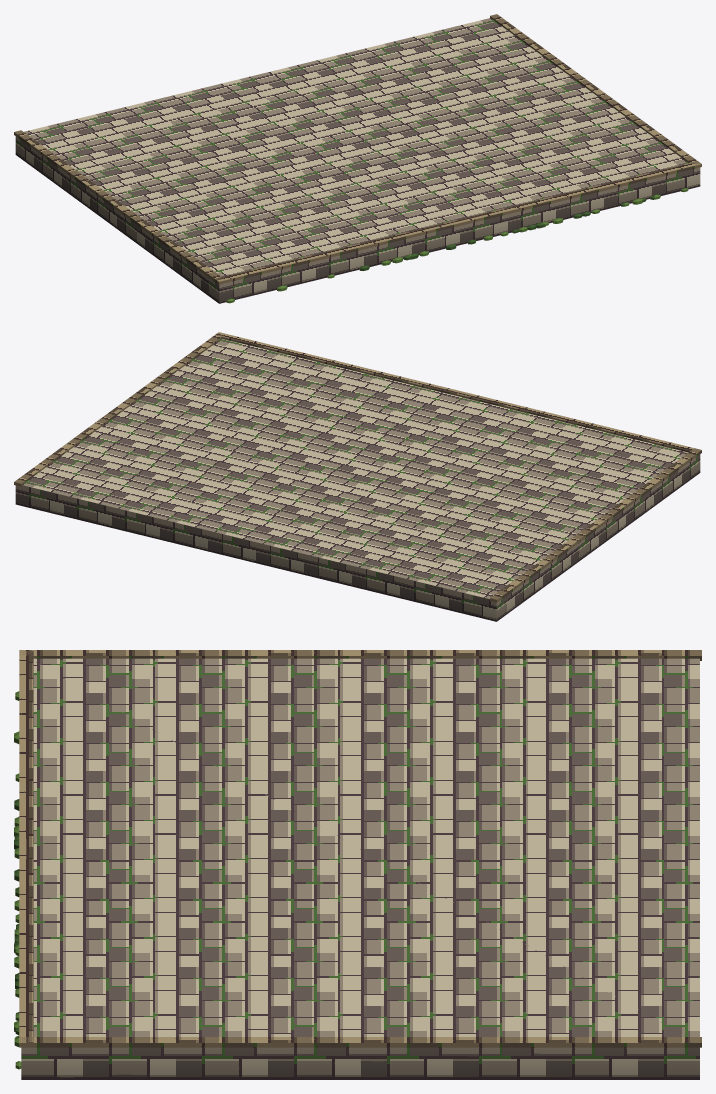
The model's file is scene_wall_s.glb.
3 views of the same model, one above another, from view 1: azimuth 30°, elevation 25°; view 2: azimuth 150°, elevation 25°; view 3: azimuth 270°, elevation 25° (orthographic). The views are drawn at different scales.
Visible parts, largest first — view 1: scene_wall_s; view 2: scene_wall_s; view 3: scene_wall_s.
Part boxes in pixels (bbox=[...]): scene_wall_s: bbox=[14, 14, 701, 303]; scene_wall_s: bbox=[14, 332, 701, 621]; scene_wall_s: bbox=[14, 650, 701, 1079].
Bounding box in the file's own units: 24.1 × 1.17 × 17.84.
Materials: 2 (1 with a texture image).
